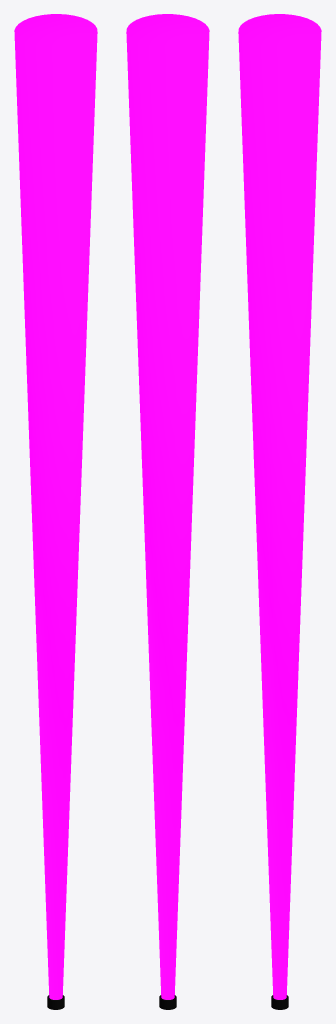
Rendered from klieg.glb.
3 views of the same model, side by side, from view 1: azimuth 30°, elevation 25°; view 2: azimuth 150°, elevation 25°; view 3: azimuth 330°, elevation 25° (orthographic).
Parts seen in each view (by area): view 1: Cylinder; view 2: Cylinder; view 3: Cylinder.
Part boxes in pixels (x1,y1,x2,y2): Cylinder: (14, 14, 97, 1009); Cylinder: (126, 14, 209, 1009); Cylinder: (238, 14, 321, 1009).
Bounding box in the file's own units: 1.2 × 15.38 × 1.18.
